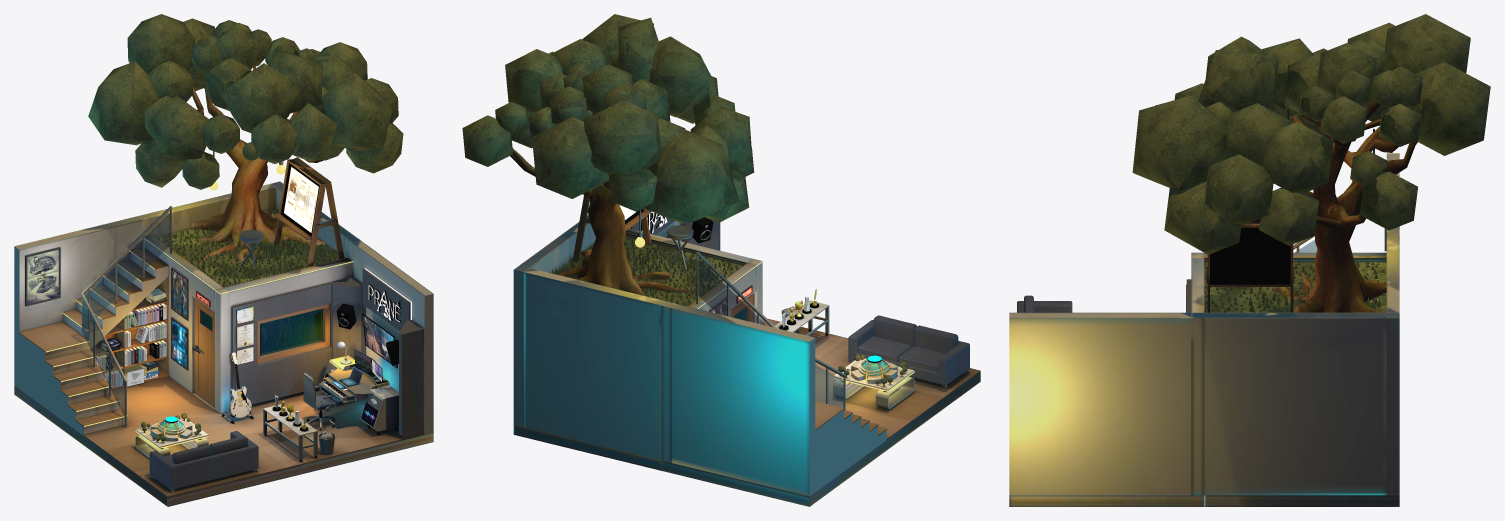
The model's file is virtual-office-room.glb.
The picture shows the model from 3 angles, left to right: view 1: azimuth 30°, elevation 25°; view 2: azimuth 150°, elevation 25°; view 3: azimuth 270°, elevation 25°; orthographic projection. The views are drawn at different scales.
Parts seen in each view (by area): view 1: Follaje, Pared Norte, Piso, Pared Oeste, Cuerpo_Escalera, Escalera, input, Vidrio Barandilla, Mobiliario, Sofa, Pizarra, Grass (+11 smaller); view 2: Pared Norte, Follaje, Piso, Sofa, input, Cuerpo_Escalera, Vidrio Barandilla, Grass, Mesa Maqueta, Pizarra, Barandilla, Pared Oeste (+2 smaller); view 3: Pared Norte, Follaje, input, Piso, Pizarra, Grass, Sofa.
Part boxes in pixels (left/top/right/bottom): Follaje: left=88, top=14, right=403, bottom=189; Pared Norte: left=14, top=181, right=433, bottom=434; Piso: left=14, top=208, right=433, bottom=506; Pared Oeste: left=25, top=247, right=423, bottom=439; Cuerpo_Escalera: left=19, top=252, right=168, bottom=435; Escalera: left=19, top=247, right=168, bottom=426; input: left=188, top=65, right=325, bottom=264; Vidrio Barandilla: left=82, top=213, right=169, bottom=416; Mobiliario: left=263, top=355, right=398, bottom=461; Sofa: left=149, top=431, right=258, bottom=491; Pizarra: left=274, top=157, right=344, bottom=267; Grass: left=158, top=209, right=341, bottom=287; Pared Norte: left=513, top=215, right=815, bottom=496; Follaje: left=462, top=14, right=754, bottom=223; Piso: left=513, top=237, right=980, bottom=506; Sofa: left=848, top=315, right=969, bottom=387; input: left=510, top=110, right=700, bottom=295; Cuerpo_Escalera: left=815, top=410, right=886, bottom=492; Vidrio Barandilla: left=698, top=259, right=844, bottom=409; Grass: left=549, top=233, right=742, bottom=305; Mesa Maqueta: left=833, top=358, right=914, bottom=408; Pizarra: left=572, top=195, right=651, bottom=262; Barandilla: left=696, top=251, right=846, bottom=410; Pared Oeste: left=630, top=209, right=726, bottom=315; Pared Norte: left=1009, top=153, right=1399, bottom=495; Follaje: left=1132, top=14, right=1490, bottom=254; input: left=1252, top=98, right=1417, bottom=312; Piso: left=1009, top=262, right=1399, bottom=506; Pizarra: left=1206, top=222, right=1294, bottom=312; Grass: left=1204, top=260, right=1385, bottom=312; Sofa: left=1017, top=295, right=1072, bottom=312.
Size of what is drawn, in the model's own units: 7.17 by 7.22 by 7.4.
142 materials, 124 textured.
